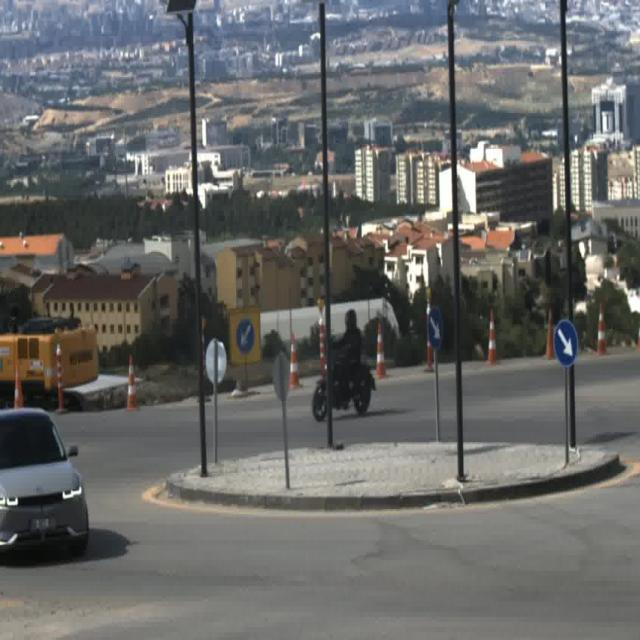Car: (0, 407, 91, 554)
Motorcycle: (313, 309, 376, 422)
